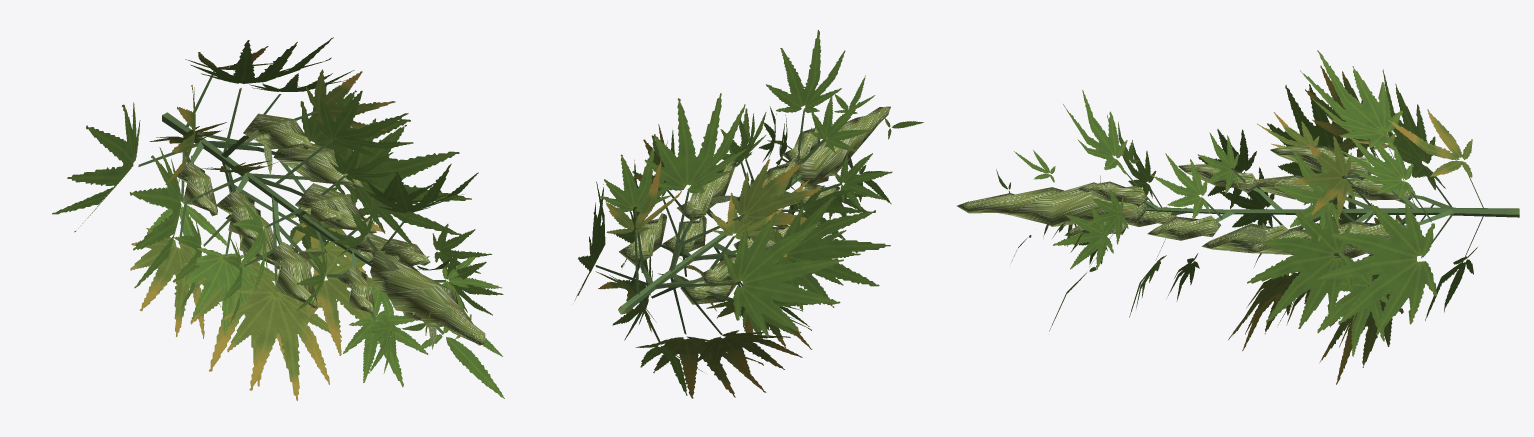
The model's file is p_landrace_ripe_c0_cards.obj.
3 views of the same model, side by side, from view 1: azimuth 30°, elevation 25°; view 2: azimuth 150°, elevation 25°; view 3: azimuth 270°, elevation 25° (orthographic). The views are drawn at different scales.
Size of the model in its own units: 1.56 by 1.54 by 2.13.
1 material, 1 textured.
